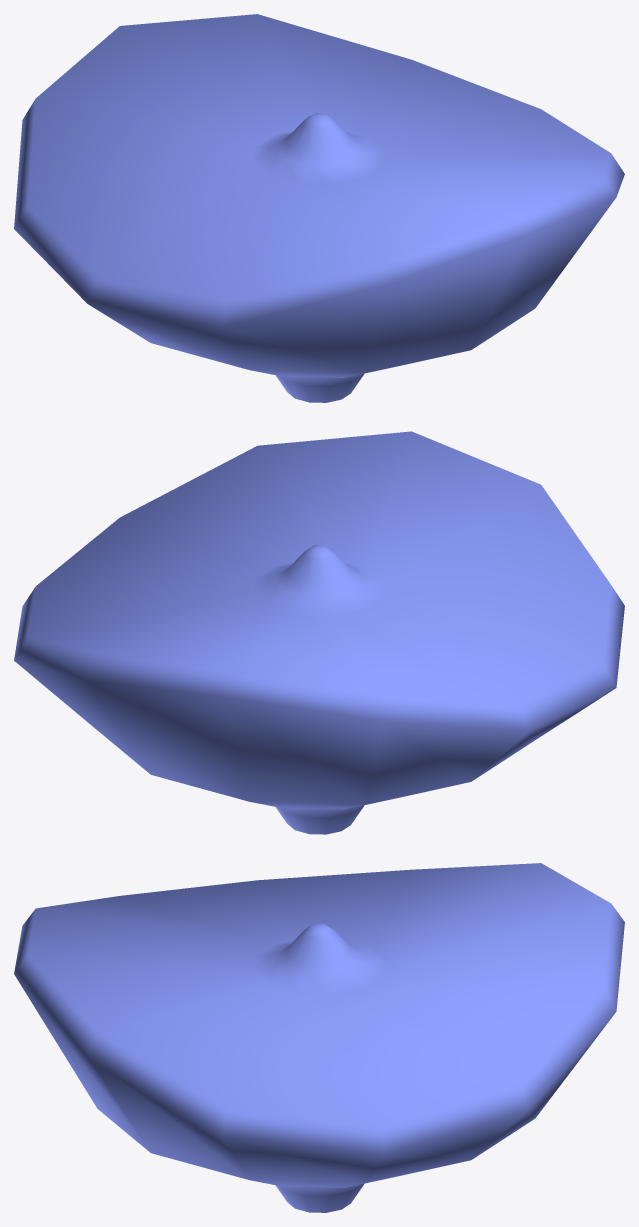
The model's file is Rayceiver_Bottom.fbx.
3 renders of one model, top to bottom at view 1: azimuth 30°, elevation 25°; view 2: azimuth 150°, elevation 25°; view 3: azimuth 270°, elevation 25°, orthographic.
Visible parts, largest first — view 1: Rayceiver_Bottom; view 2: Rayceiver_Bottom; view 3: Rayceiver_Bottom.
Part boxes in pixels (x1,y1,x2,y2): Rayceiver_Bottom: [14, 14, 624, 402]; Rayceiver_Bottom: [14, 431, 624, 834]; Rayceiver_Bottom: [14, 863, 624, 1212].
Size of the model in its own units: 96.47 by 47.78 by 96.47.
